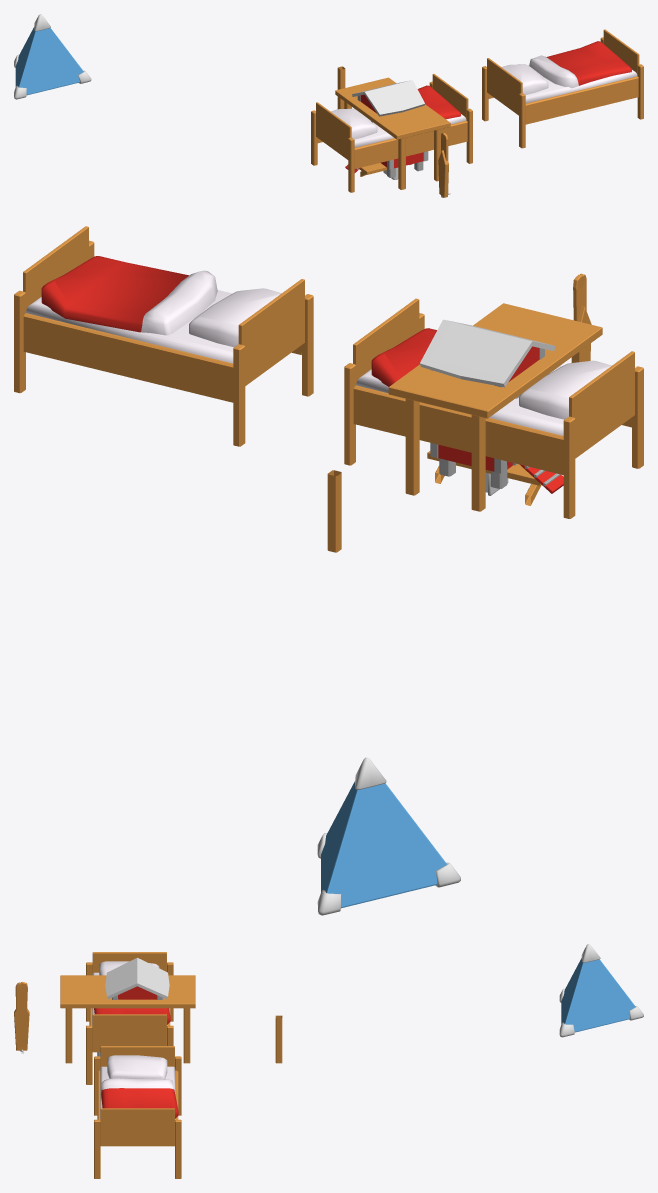
File: env_flowerpot.fbx
The picture shows the model from 3 angles, top to bottom: view 1: azimuth 30°, elevation 25°; view 2: azimuth 150°, elevation 25°; view 3: azimuth 270°, elevation 25°; orthographic projection. The views are drawn at different scales.
Visible parts, largest first — view 1: env_bed.001, env_bed, Pyramid.001, env_table, env_chickencoop, env_plank02.001, env_bed.006; view 2: env_bed.001, env_bed, Pyramid.001, env_table, env_chickencoop, env_bed.006; view 3: env_bed.001, env_bed, Pyramid.001, env_table, env_chickencoop, env_plank01.001, env_plank02.001, env_bed.006.
Boxes of the visible parts, x1,y1,x2,y2 form: env_bed.001: (482, 29, 643, 148); env_bed: (311, 74, 472, 192); Pyramid.001: (14, 14, 91, 99); env_table: (335, 77, 450, 189); env_chickencoop: (345, 80, 428, 177); env_plank02.001: (438, 150, 448, 197); env_bed.006: (337, 66, 345, 109); env_bed.001: (14, 226, 313, 446); env_bed: (344, 298, 643, 518); Pyramid.001: (317, 757, 460, 915); env_table: (388, 303, 602, 511); env_chickencoop: (420, 319, 563, 493); env_bed.006: (327, 470, 341, 552); env_bed.001: (94, 1046, 181, 1178); env_bed: (86, 952, 173, 1084); Pyramid.001: (559, 944, 643, 1037); env_table: (60, 975, 195, 1063); env_chickencoop: (97, 957, 169, 1056); env_plank01.001: (15, 982, 27, 1050); env_plank02.001: (14, 1009, 29, 1050); env_bed.006: (275, 1015, 282, 1063).
Size of the model in its own units: 656 by 170 by 789.
